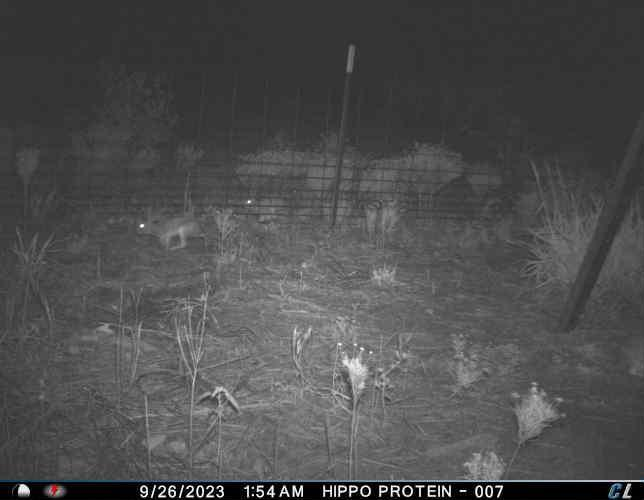Rabbit: (131, 205, 208, 252)
